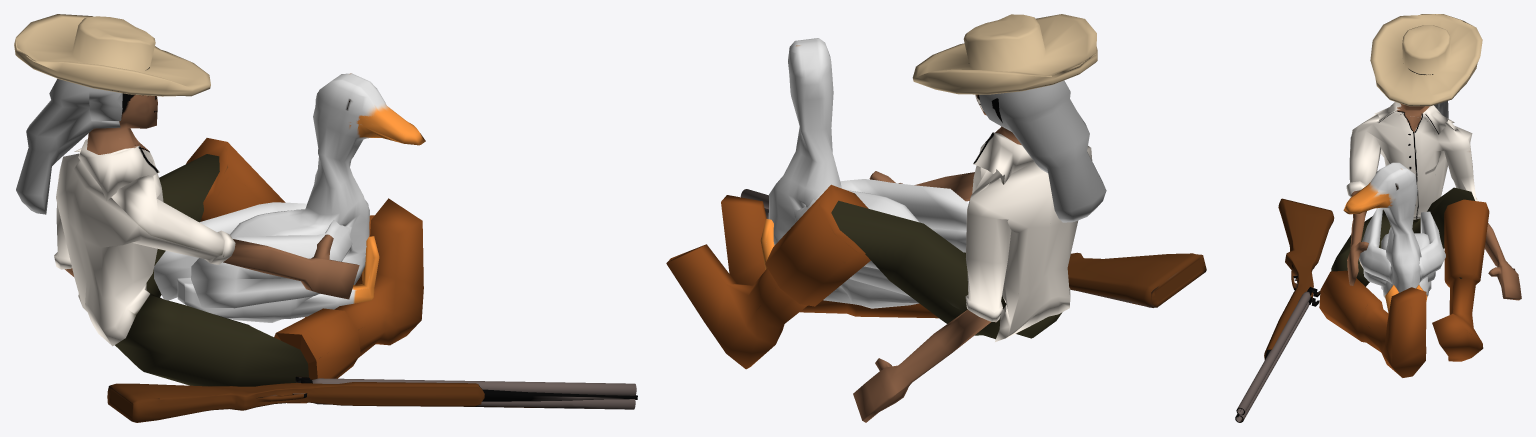
The model's file is idle_2.obj.
3 renders of one model, left to right at view 1: azimuth 30°, elevation 25°; view 2: azimuth 150°, elevation 25°; view 3: azimuth 270°, elevation 25°, orthographic. The views are drawn at different scales.
Visible parts, largest first — view 1: Default_Body_Cube, Cube.005, SHOTGUN_Cube.007, Hat_Cylinder, Hair_Cube.004; view 2: Default_Body_Cube, Cube.005, Hat_Cylinder, Hair_Cube.004, SHOTGUN_Cube.007; view 3: Default_Body_Cube, Hat_Cylinder, Cube.005, SHOTGUN_Cube.007.
Part boxes in pixels (bbox=[...]): Default_Body_Cube: bbox=[54, 93, 423, 403]; Cube.005: bbox=[154, 73, 425, 322]; SHOTGUN_Cube.007: bbox=[107, 376, 637, 422]; Hat_Cylinder: bbox=[14, 14, 210, 96]; Hair_Cube.004: bbox=[16, 78, 122, 214]; Default_Body_Cube: bbox=[666, 94, 1092, 422]; Cube.005: bbox=[760, 38, 968, 308]; Hat_Cylinder: bbox=[912, 14, 1097, 94]; Hair_Cube.004: bbox=[979, 80, 1106, 222]; SHOTGUN_Cube.007: bbox=[740, 189, 1206, 307]; Default_Body_Cube: bbox=[1319, 73, 1521, 377]; Hat_Cylinder: bbox=[1370, 14, 1482, 106]; Cube.005: bbox=[1343, 162, 1445, 313]; SHOTGUN_Cube.007: bbox=[1235, 198, 1334, 422].
Size of the model in its own units: 6.85 by 5.15 by 5.14.
